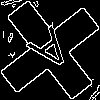A: (25, 25, 81, 82)
